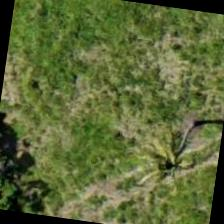Kelapa_Sawit: (140, 78, 223, 180)
